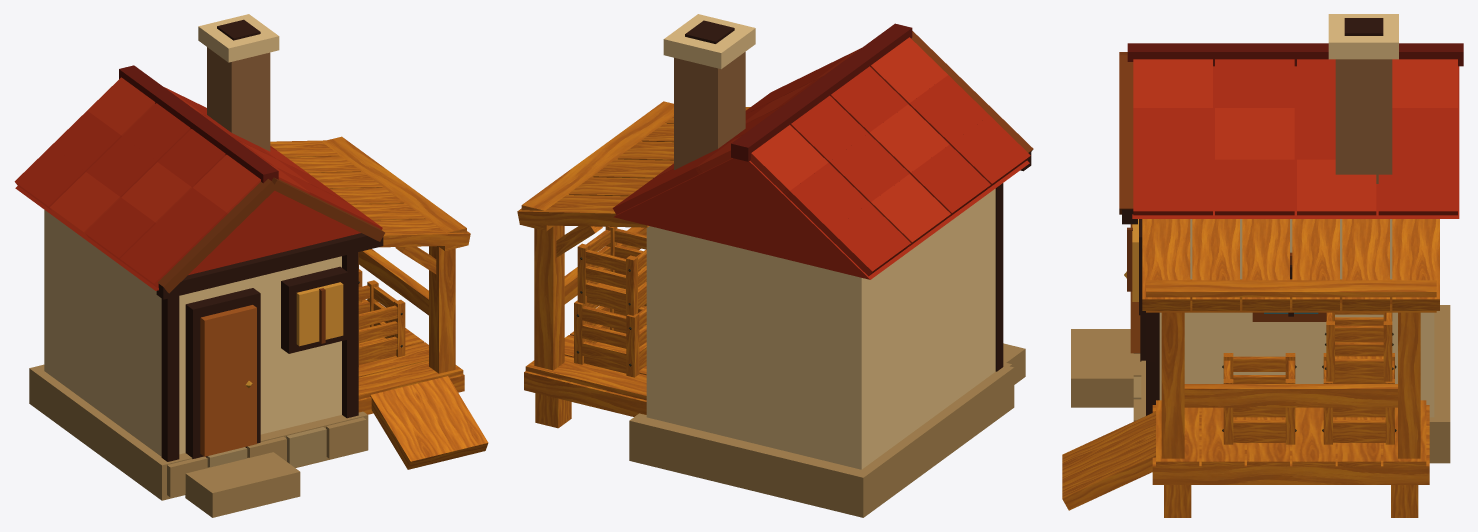
The model's file is warehouse-expanded.obj.
3 renders of one model, left to right at view 1: azimuth 30°, elevation 25°; view 2: azimuth 150°, elevation 25°; view 3: azimuth 270°, elevation 25°, orthographic. The views are drawn at different scales.
Parts seen in each view (by area): view 1: warehouse-expanded; view 2: warehouse-expanded; view 3: warehouse-expanded.
Boxes of the visible parts, box(x1,y1,x2,y2) form: warehouse-expanded: box(14, 14, 488, 517); warehouse-expanded: box(517, 14, 1033, 517); warehouse-expanded: box(1062, 14, 1463, 517).
Bounding box in the file's own units: 1.9 × 2.03 × 1.77.
Materials: 2 (2 with a texture image).
